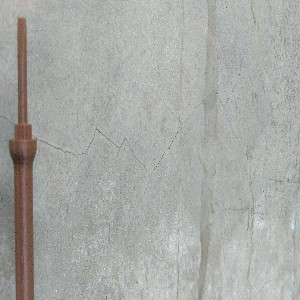obeng: (7, 16, 38, 300)
